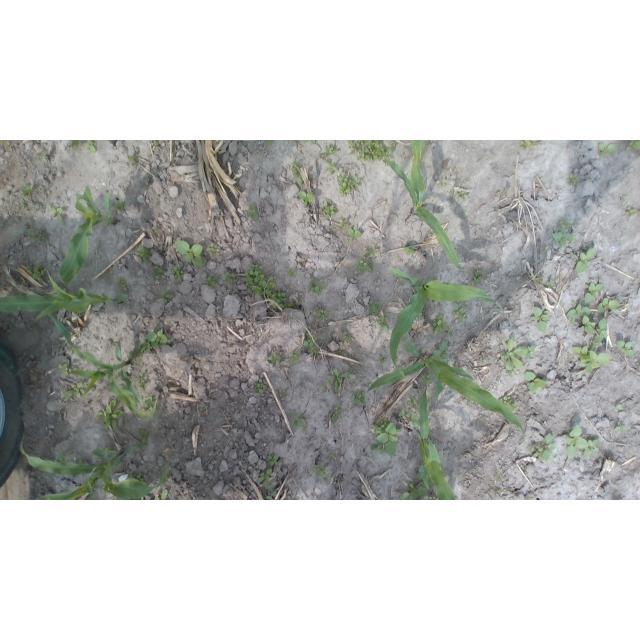Maize: (366, 341, 527, 436), (388, 266, 504, 378), (49, 314, 158, 419), (382, 140, 464, 269), (20, 435, 167, 500), (0, 267, 128, 323), (59, 186, 120, 285), (418, 382, 458, 500)
Weeds: (564, 425, 600, 460), (497, 339, 536, 371), (572, 345, 613, 373), (93, 399, 124, 429), (246, 263, 276, 293), (175, 240, 203, 269), (379, 425, 398, 456), (358, 140, 385, 160), (537, 433, 556, 461), (267, 290, 294, 309), (329, 370, 351, 393), (525, 371, 547, 394), (337, 173, 360, 195), (531, 306, 551, 331), (576, 248, 596, 272), (566, 304, 591, 322), (148, 329, 169, 349), (404, 484, 429, 500), (584, 282, 602, 303), (434, 313, 451, 334), (64, 382, 84, 399), (292, 159, 305, 185), (552, 232, 573, 248), (259, 469, 274, 490), (595, 317, 607, 343), (598, 299, 618, 314), (599, 142, 618, 157), (378, 314, 392, 334), (384, 140, 395, 165), (434, 342, 451, 358), (299, 191, 315, 207), (309, 279, 324, 296), (618, 342, 635, 357), (453, 304, 467, 322), (291, 410, 305, 427), (304, 332, 317, 349), (325, 159, 337, 177), (322, 205, 336, 220), (373, 421, 388, 435), (320, 146, 335, 159), (354, 393, 367, 407), (313, 465, 327, 478), (472, 269, 484, 284), (367, 300, 379, 315), (582, 316, 592, 334), (136, 373, 148, 388), (32, 265, 44, 280), (625, 140, 640, 152), (348, 141, 360, 156), (348, 230, 361, 243), (256, 379, 267, 394), (86, 140, 98, 153), (559, 217, 572, 229), (53, 207, 64, 221), (60, 362, 69, 378), (504, 397, 517, 408), (137, 247, 148, 260), (567, 174, 578, 187), (290, 351, 300, 365), (268, 455, 279, 467), (207, 244, 219, 255), (204, 277, 217, 287), (399, 409, 410, 420), (145, 395, 156, 406), (267, 355, 279, 365), (21, 184, 31, 196), (248, 205, 257, 218), (225, 273, 235, 284), (127, 155, 138, 165), (418, 465, 426, 478), (68, 140, 81, 148), (173, 268, 183, 278), (522, 140, 532, 150), (457, 192, 468, 201), (405, 247, 415, 256), (357, 261, 367, 270), (139, 429, 149, 438), (153, 269, 163, 278), (117, 278, 127, 287), (28, 228, 37, 238), (317, 311, 328, 319), (140, 341, 147, 353), (118, 202, 127, 211), (330, 411, 338, 421), (162, 294, 170, 303), (626, 208, 635, 216), (616, 425, 626, 432), (290, 270, 297, 279), (421, 373, 430, 380), (47, 204, 54, 213), (341, 220, 347, 229), (368, 249, 377, 255), (343, 332, 349, 341), (411, 396, 417, 405), (327, 452, 334, 459), (349, 369, 358, 374), (281, 390, 287, 397), (267, 493, 274, 499), (536, 275, 541, 283), (311, 349, 317, 355), (137, 473, 143, 479), (617, 404, 624, 409), (372, 444, 377, 451), (547, 283, 554, 288), (450, 196, 455, 202), (302, 140, 309, 144), (106, 447, 113, 451), (620, 194, 625, 199), (381, 357, 385, 362), (269, 140, 273, 145), (36, 152, 40, 156)
